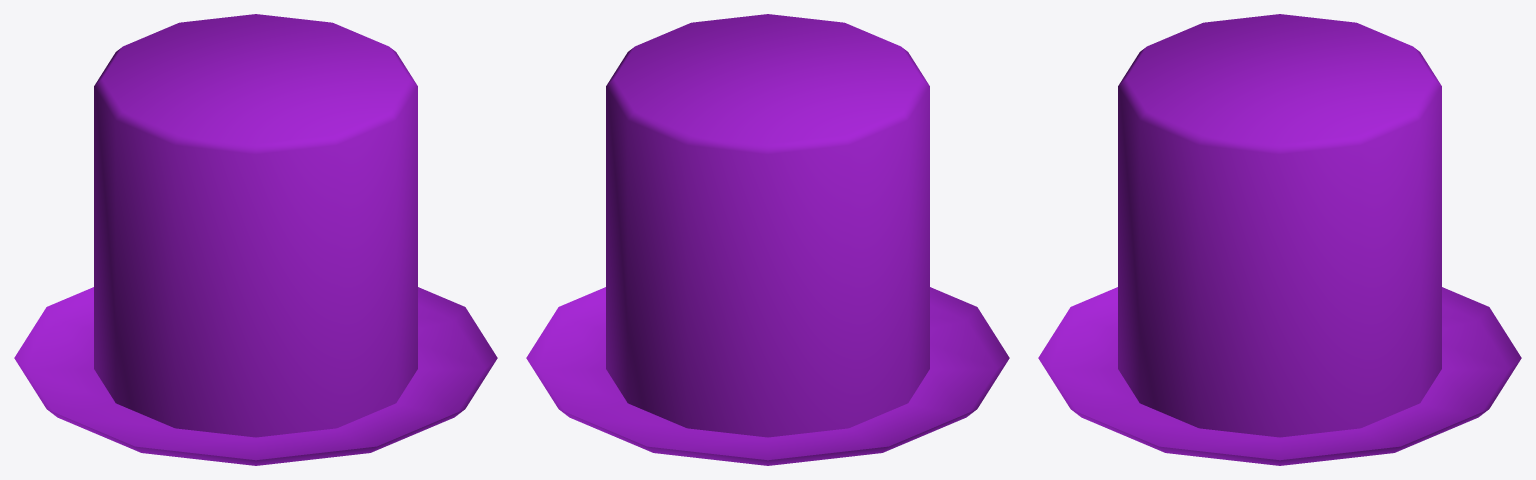
File: shop cont hat 2 lod1.FBX
3 renders of one model, left to right at view 1: azimuth 30°, elevation 25°; view 2: azimuth 150°, elevation 25°; view 3: azimuth 270°, elevation 25°, orthographic.
Visible parts, largest first — view 1: Cylinder291; view 2: Cylinder291; view 3: Cylinder291.
Boxes of the visible parts, x1,y1,x2,y2 form: Cylinder291: (14,14,497,465); Cylinder291: (526,14,1009,465); Cylinder291: (1038,14,1521,465).
Bounding box in the file's own units: 0.4753 × 0.3147 × 0.4753.
